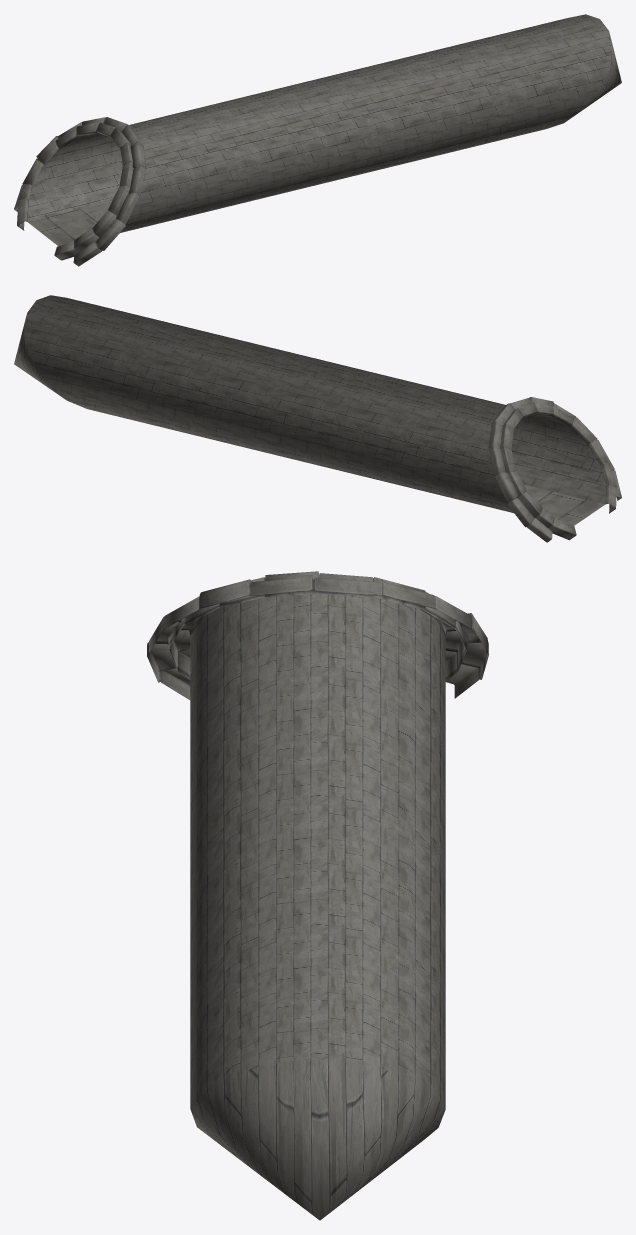
File: SM_ENV_LKNVLD_Ground_Hill_Left_WaterTunnel.FBX
3 views of the same model, one above another, from view 1: azimuth 30°, elevation 25°; view 2: azimuth 150°, elevation 25°; view 3: azimuth 270°, elevation 25° (orthographic). The views are drawn at different scales.
Parts seen in each view (by area): view 1: SM_ENV_LKNVLD_Ground_Hill_Left_WaterTunnel; view 2: SM_ENV_LKNVLD_Ground_Hill_Left_WaterTunnel; view 3: SM_ENV_LKNVLD_Ground_Hill_Left_WaterTunnel.
Boxes of the visible parts, <box> form: SM_ENV_LKNVLD_Ground_Hill_Left_WaterTunnel: <box>14,14,621,266</box>; SM_ENV_LKNVLD_Ground_Hill_Left_WaterTunnel: <box>14,295,621,542</box>; SM_ENV_LKNVLD_Ground_Hill_Left_WaterTunnel: <box>147,571,488,1220</box>.
Size of the model in its own units: 2939 by 496 by 746.
